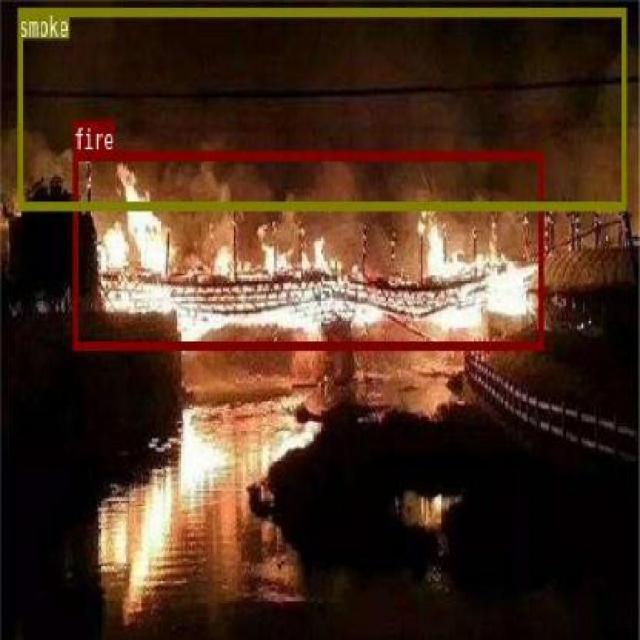fire: (72, 149, 543, 348)
smoke: (17, 6, 625, 208)
